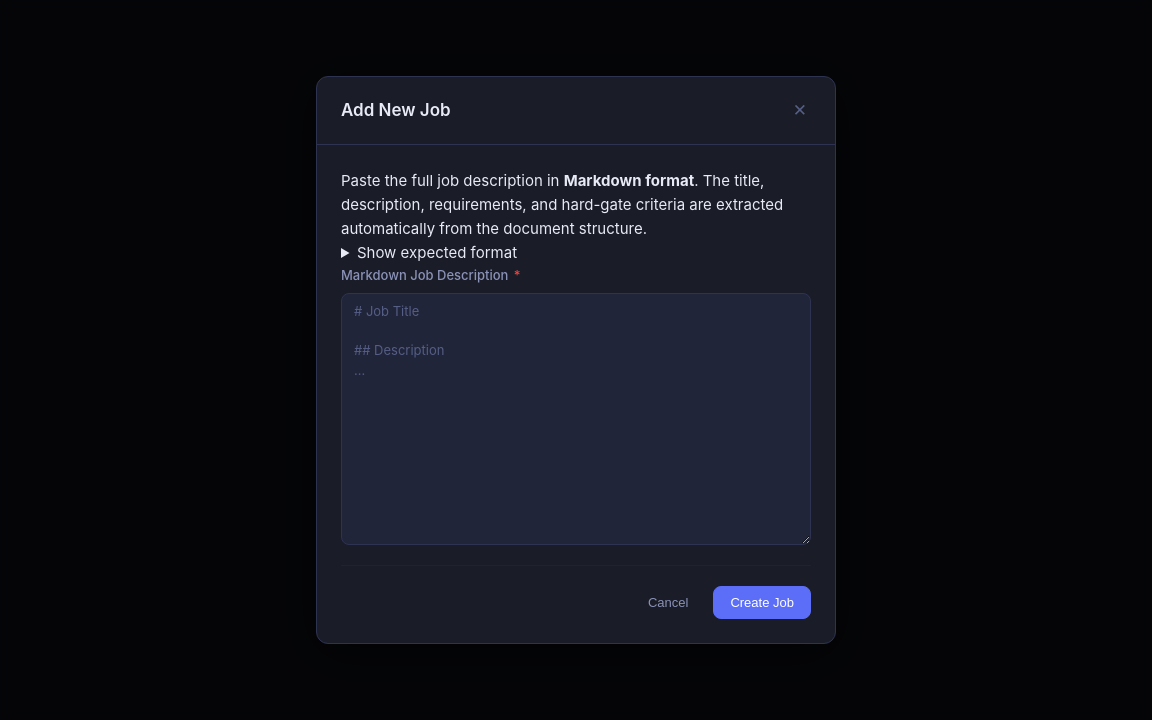
Scenario: JobIngestionModal › inline error shown when API returns field error for "description"
Step 1. Type "# Title only" into the text box with test id "job-raw-markdown" → (576, 420), box x1=341 y1=294 x2=811 y2=546
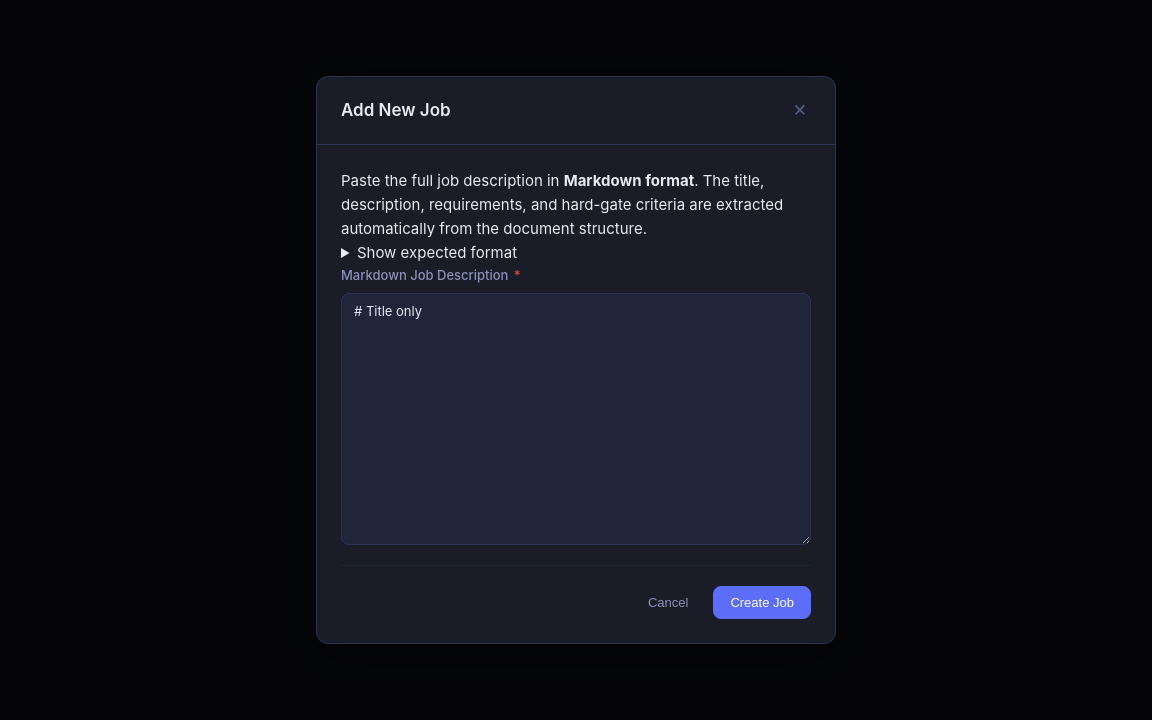
Step 2. Click the button "Create Job" → (762, 603), box x1=713 y1=586 x2=811 y2=620
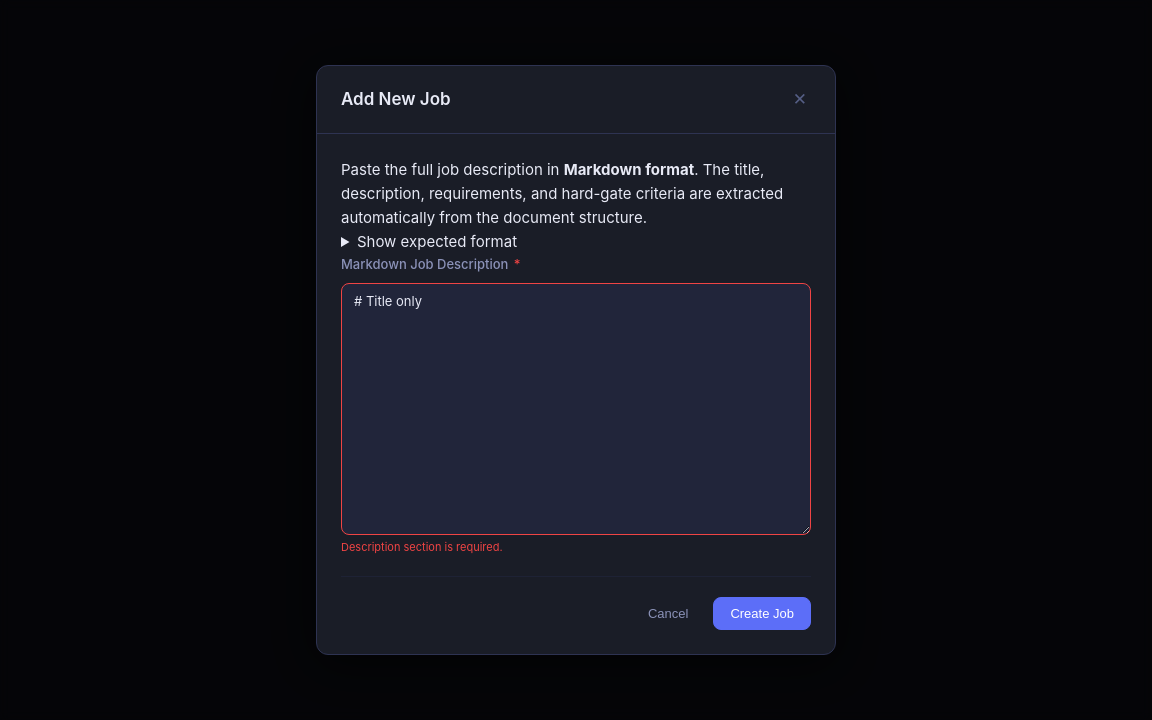
Expected: the text "Description section is required." is shown, x1=341 y1=540 x2=503 y2=554
